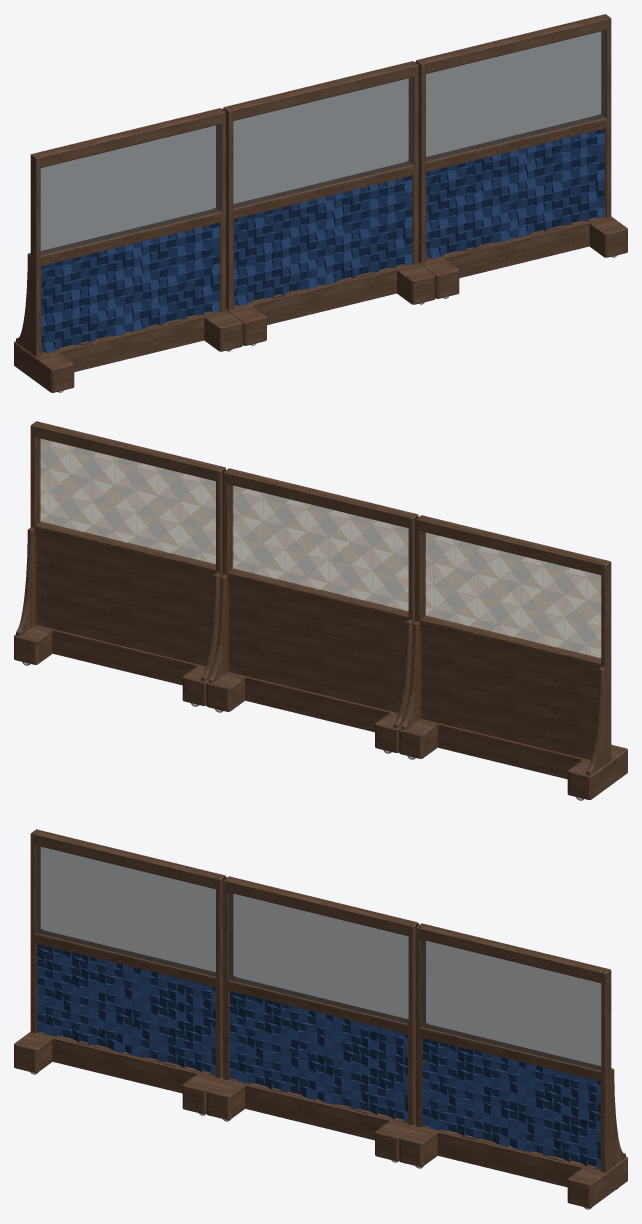
Rendered from v10-linen-marquetry-walnut-three.glb.
The picture shows the model from 3 angles, top to bottom: view 1: azimuth 30°, elevation 25°; view 2: azimuth 150°, elevation 25°; view 3: azimuth 330°, elevation 25°; orthographic projection.
Visible parts, largest first — view 1: Left Wood, Left Linen Marquetry reverse, Linen Marquetry reverse, Right Linen Marquetry reverse, Right Navy Everwood relief, Left Navy Everwood relief, Navy Everwood relief, Right Wood, Wood; view 2: Left Wood, Right Wood, Wood, Left Linen Marquetry print, Right Linen Marquetry print, Linen Marquetry print; view 3: Right Wood, Linen Marquetry reverse, Right Linen Marquetry reverse, Left Linen Marquetry reverse, Left Navy Everwood relief, Right Navy Everwood relief, Navy Everwood relief, Left Wood, Wood.
Part boxes in pixels (x1,y1,x2,y2): Left Wood: (14, 108, 242, 392); Left Linen Marquetry reverse: (40, 124, 220, 255); Linen Marquetry reverse: (233, 77, 413, 208); Right Linen Marquetry reverse: (426, 30, 605, 161); Right Navy Everwood relief: (426, 128, 604, 258); Left Navy Everwood relief: (41, 223, 219, 352); Navy Everwood relief: (234, 175, 412, 305); Right Wood: (416, 14, 627, 298); Wood: (223, 61, 435, 345); Left Wood: (399, 515, 627, 799); Right Wood: (14, 421, 225, 705); Wood: (206, 468, 418, 752); Left Linen Marquetry print: (425, 532, 601, 658); Right Linen Marquetry print: (39, 438, 215, 564); Linen Marquetry print: (232, 485, 408, 611); Right Wood: (399, 923, 627, 1207); Linen Marquetry reverse: (228, 892, 408, 1023); Right Linen Marquetry reverse: (421, 940, 601, 1070); Left Linen Marquetry reverse: (36, 846, 215, 976); Left Navy Everwood relief: (37, 944, 215, 1075); Right Navy Everwood relief: (422, 1038, 600, 1169); Navy Everwood relief: (229, 991, 407, 1122); Left Wood: (14, 829, 225, 1114); Wood: (206, 876, 418, 1161).
Size of the model in its own units: 5.03 by 1.91 by 0.5842.
10 materials, 2 textured.
